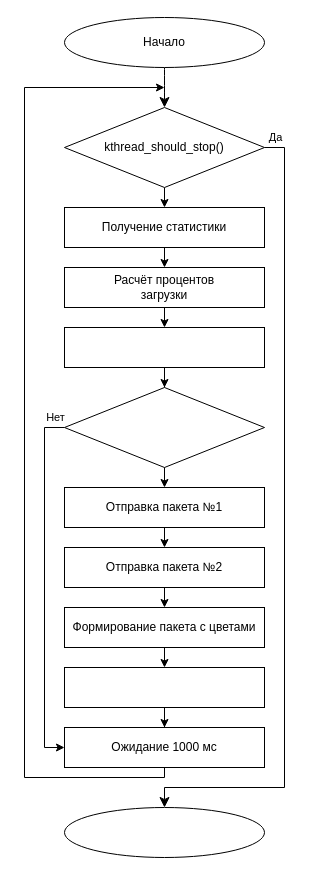
The diagram is 312 pixels wide and 875 high, and some of its shapes have lost their labels. Here are the shapes that lost their labels. From the top down, the centre of each, then its label:
the point at 164,347: Дискретизация
the point at 164,427: Уровни изменились
the point at 164,687: Отправка пакета с цветами
the point at 164,832: Конец
